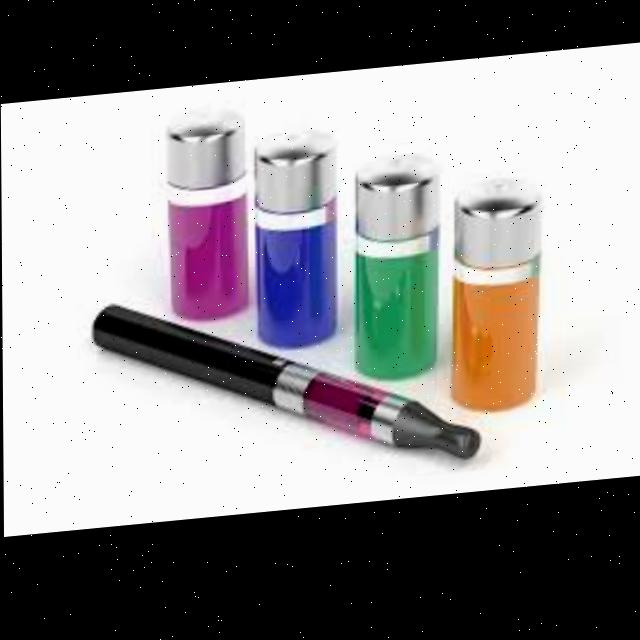vape: (91, 277, 479, 498)
